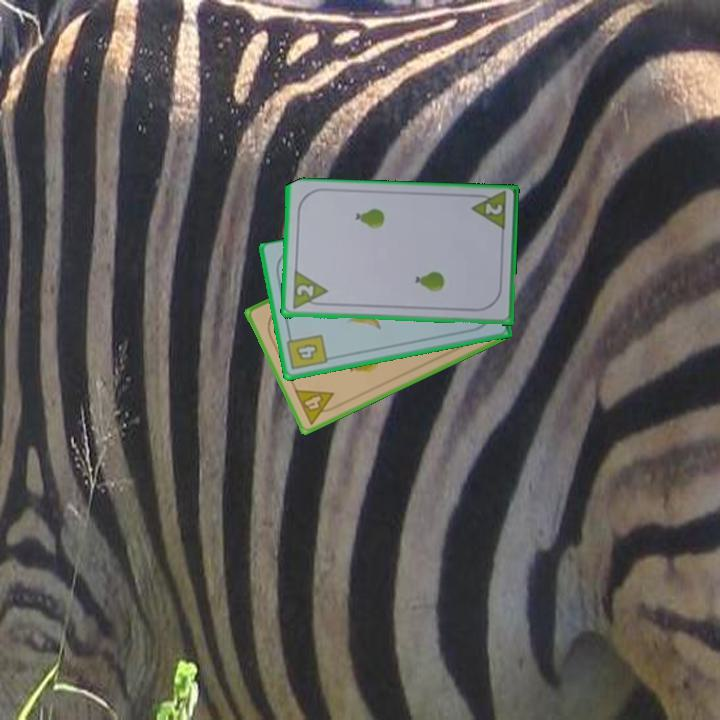2p: (288, 269, 330, 312), (468, 190, 509, 234)
4b: (284, 330, 330, 373)
4p: (291, 386, 342, 427)
